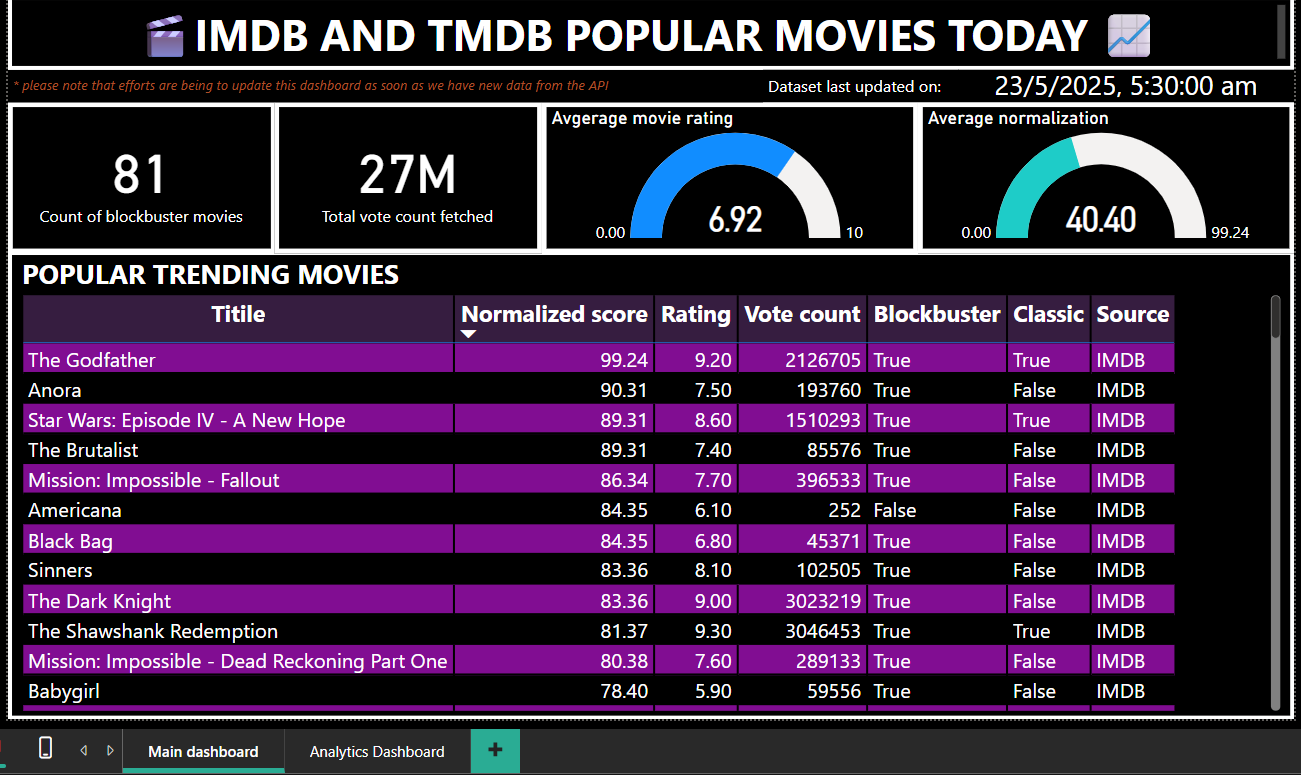

The dashboard page shown, as its layout file describes it:
{"tool":"powerbi","page":{"name":"Main dashboard","canvas":[1280,720],"ordinal":0},"visuals":[{"type":"textbox","box":[0,0,1280,73.4],"z":0},{"type":"card","fields":{"Values":["Sheet1.count_blockbuster"]},"box":[0,105.7,266,150.5],"z":1000},{"type":"gauge","title":"Avgerage movie rating","fields":{"Y":["Sheet1.avg_rating"],"MaxValue":["Sheet1.max_avg_rating"]},"box":[531.2,105.7,374.4,150.5],"z":2000},{"type":"tableEx","title":"POPULAR TRENDING MOVIES","fields":{"Values":["Sheet1.title","Sheet1.normalized_score","Sheet1.rating","Sheet1.vote_count","Sheet1.is_blockbuster","Sheet1.is_classic","Sheet1.source"]},"box":[0,253.8,1280,466.5],"z":3000},{"type":"card","fields":{"Values":["Sheet1.total_vote_count"]},"box":[265,105.7,266.2,150.5],"z":4000},{"type":"gauge","title":"Average normalization","fields":{"Y":["Sheet1.avg_normalization_score"],"MaxValue":["Sheet1.max_normalization_score"]},"box":[905.6,105.7,374.4,150.5],"z":5000},{"type":"textbox","box":[751.4,73.4,194.1,32.3],"z":6000},{"type":"card","fields":{"Values":["Sheet1.todays_date"]},"box":[945.4,73.4,334.6,32.3],"z":7000},{"type":"textbox","box":[0,74.6,751.4,31.1],"z":8000}]}

Visuals, with their boxes in screenshot pixels (x1, y1, x2, y2):
textbox: 3,0,1286,67
card - Sheet1.count_blockbuster: 3,99,270,250
"Avgerage movie rating" gauge: 536,99,911,250
"POPULAR TRENDING MOVIES" tableEx: 3,248,1286,715
card - Sheet1.total_vote_count: 269,99,536,250
"Average normalization" gauge: 911,99,1286,250
textbox: 757,67,951,99
card - Sheet1.todays_date: 951,67,1286,99
textbox: 3,68,757,99
